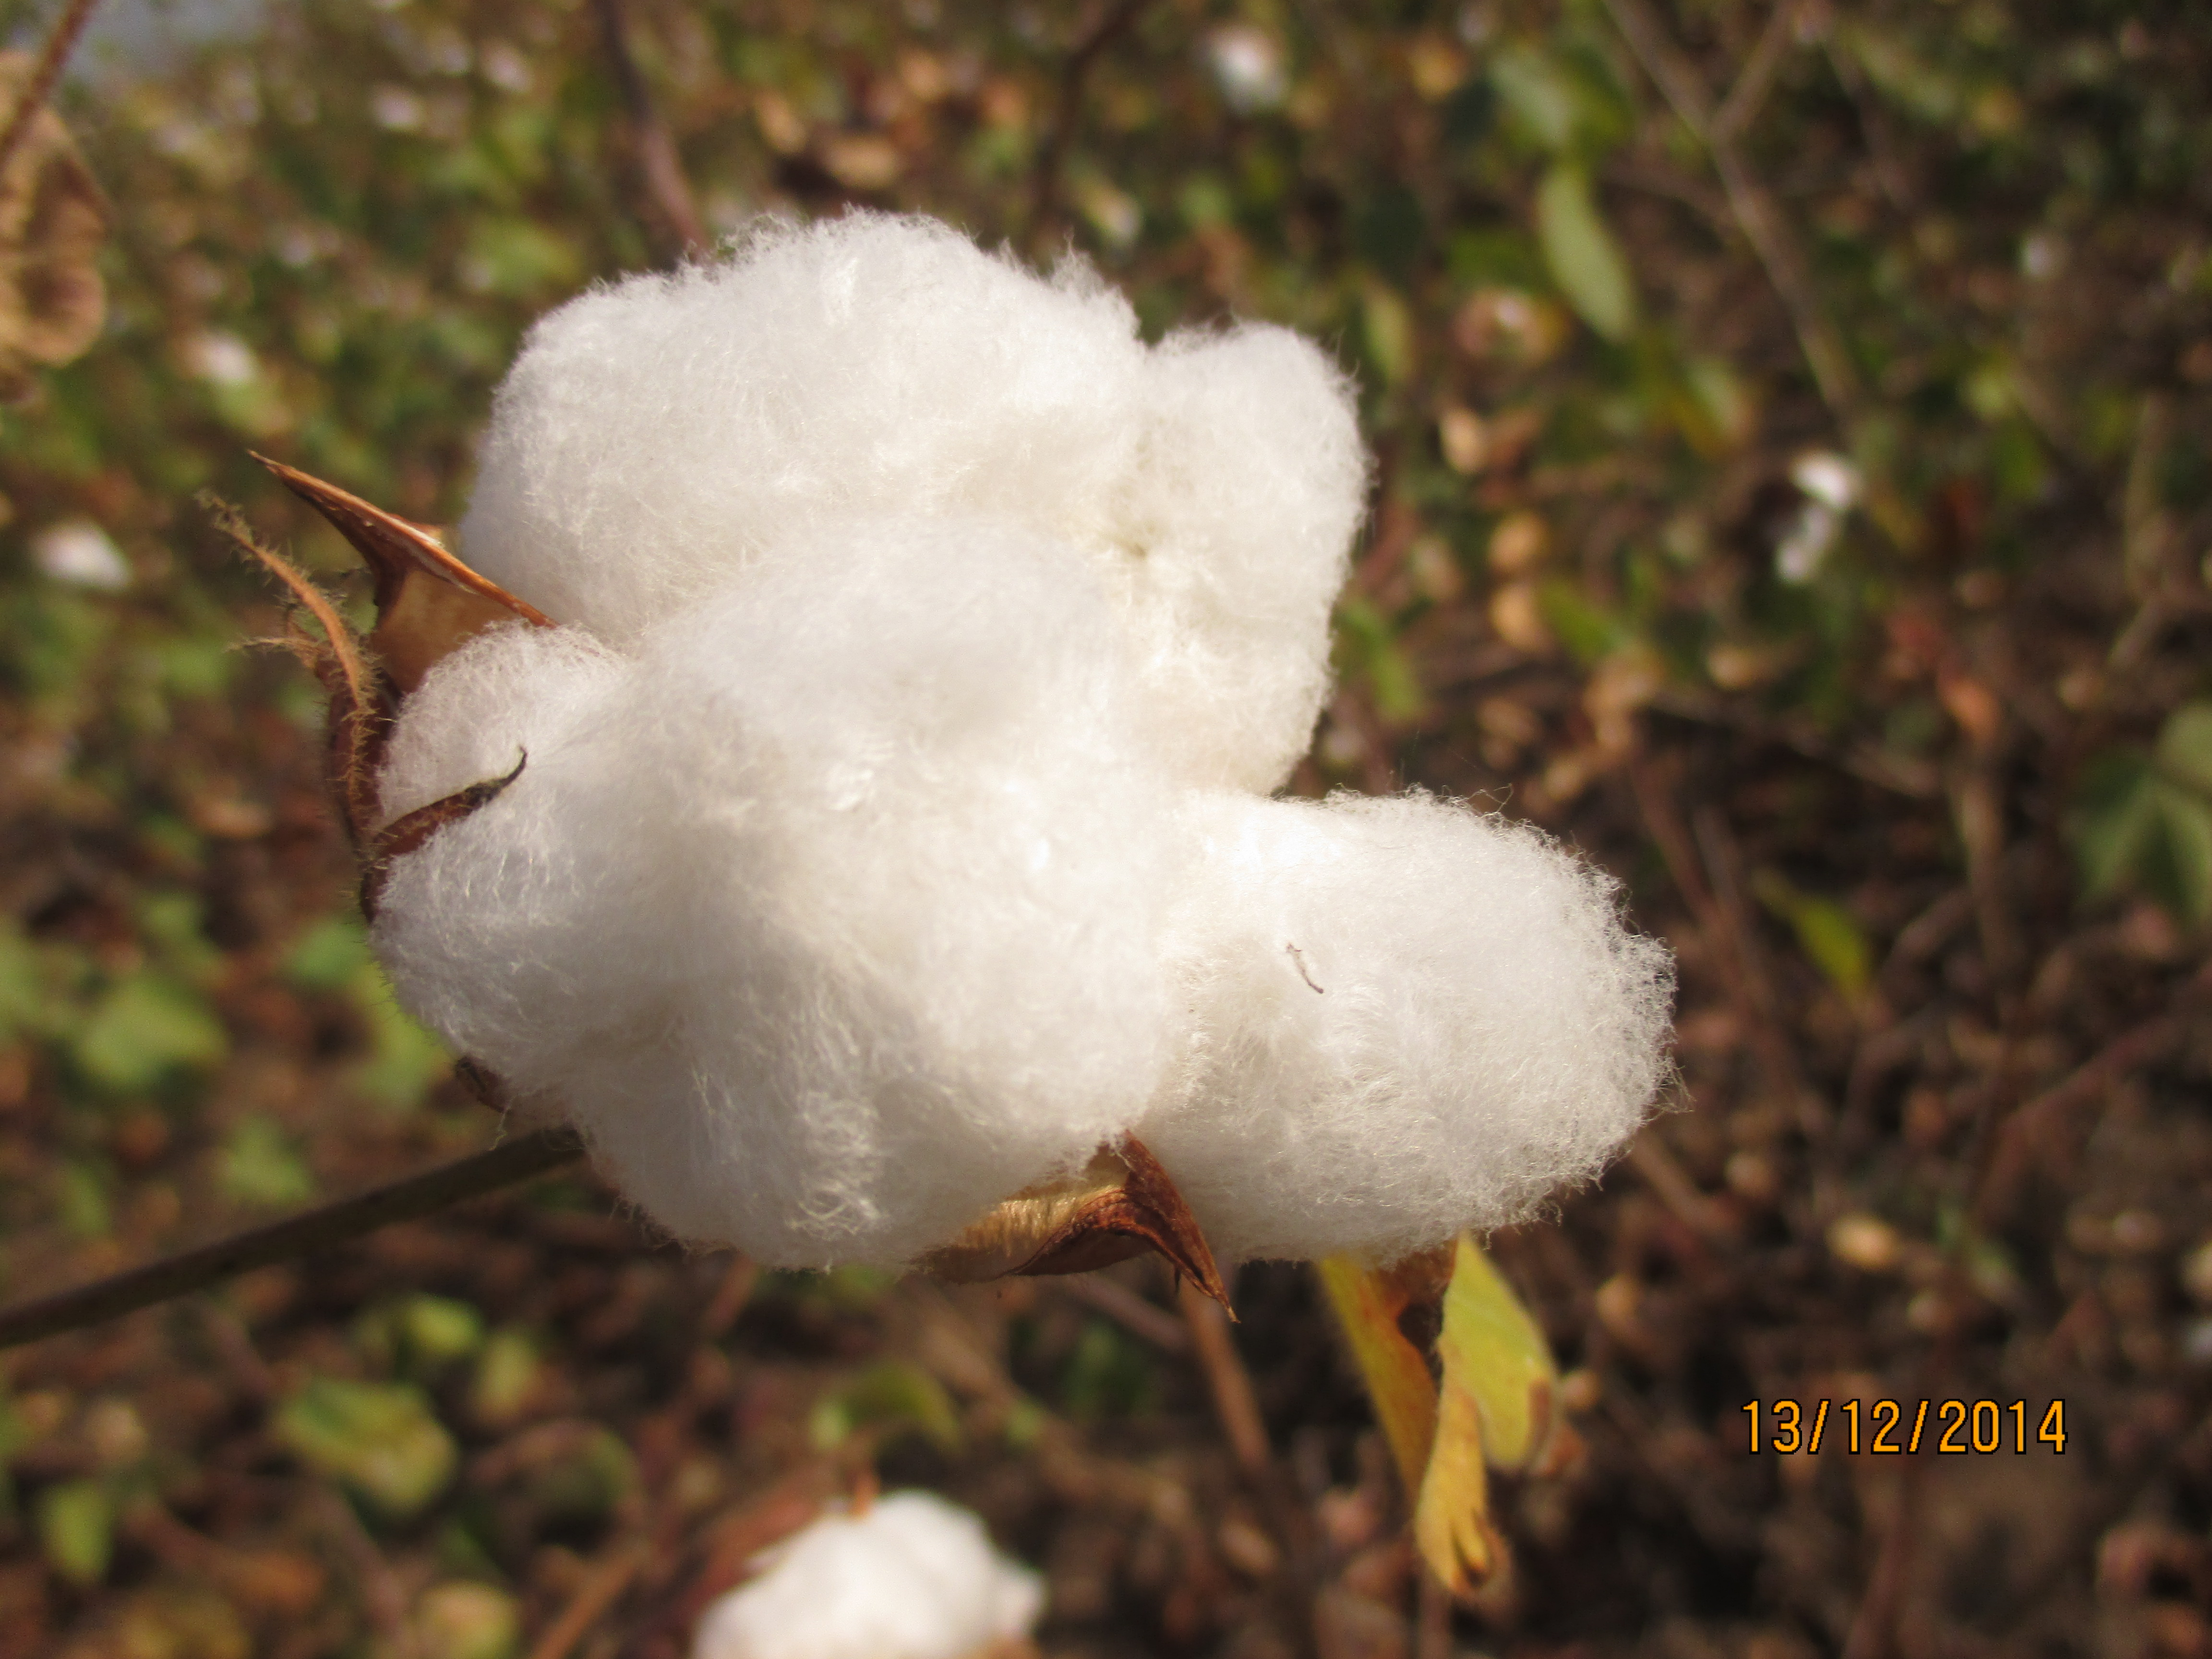cotton: (343, 220, 1700, 1283)
